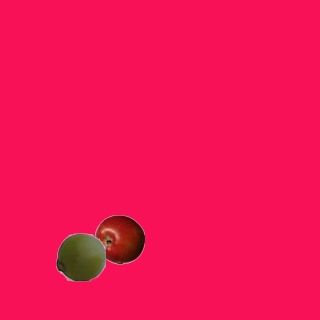Apple Braeburn: (94, 214, 144, 264)
Grape White 4: (55, 231, 105, 281)
